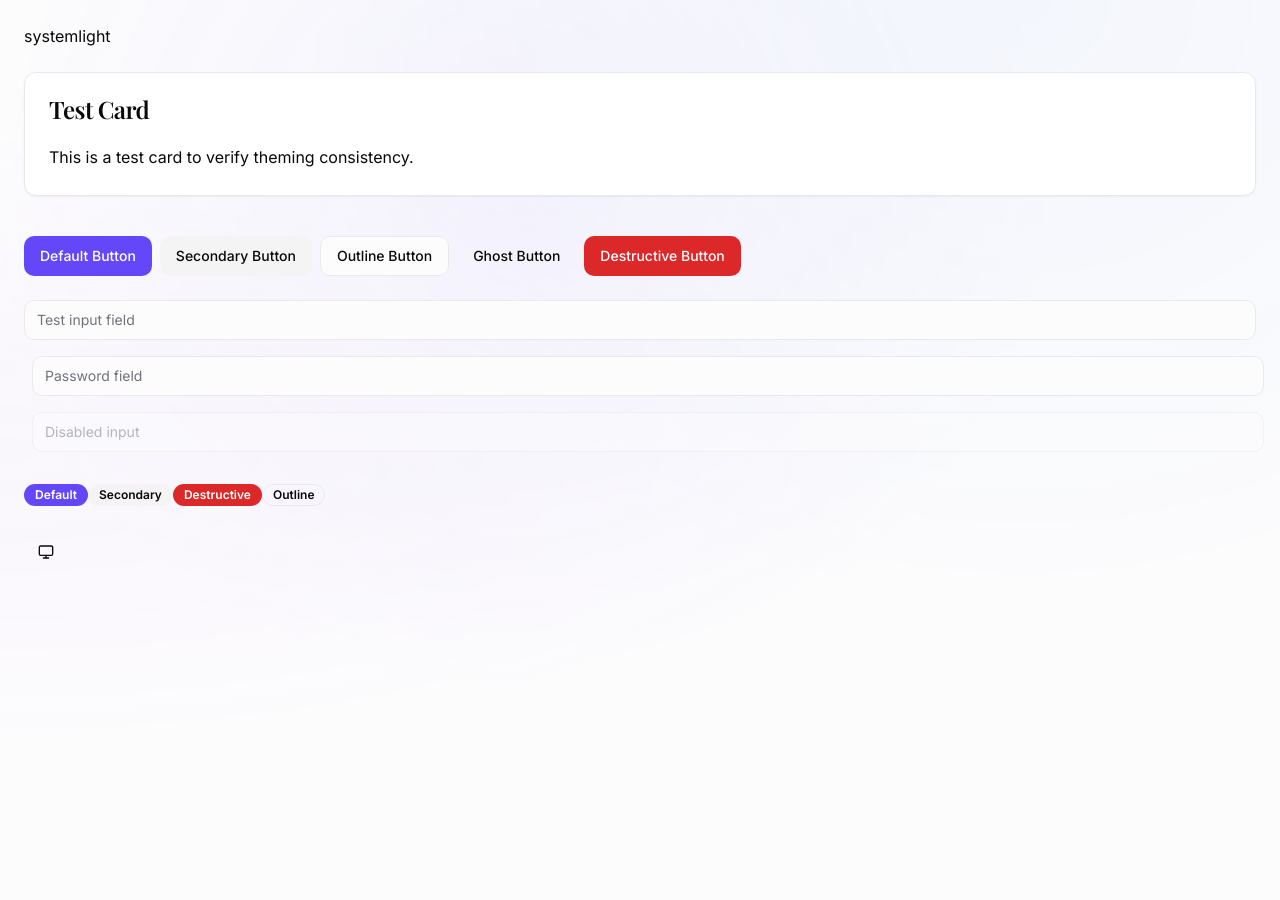
Theme Visual Regression Tests › Theme Application Consistency › applies high contrast theme classes consistently
Switch to high contrast theme
Click the button named "theme selector" at (46,552), box [24,530,68,574]
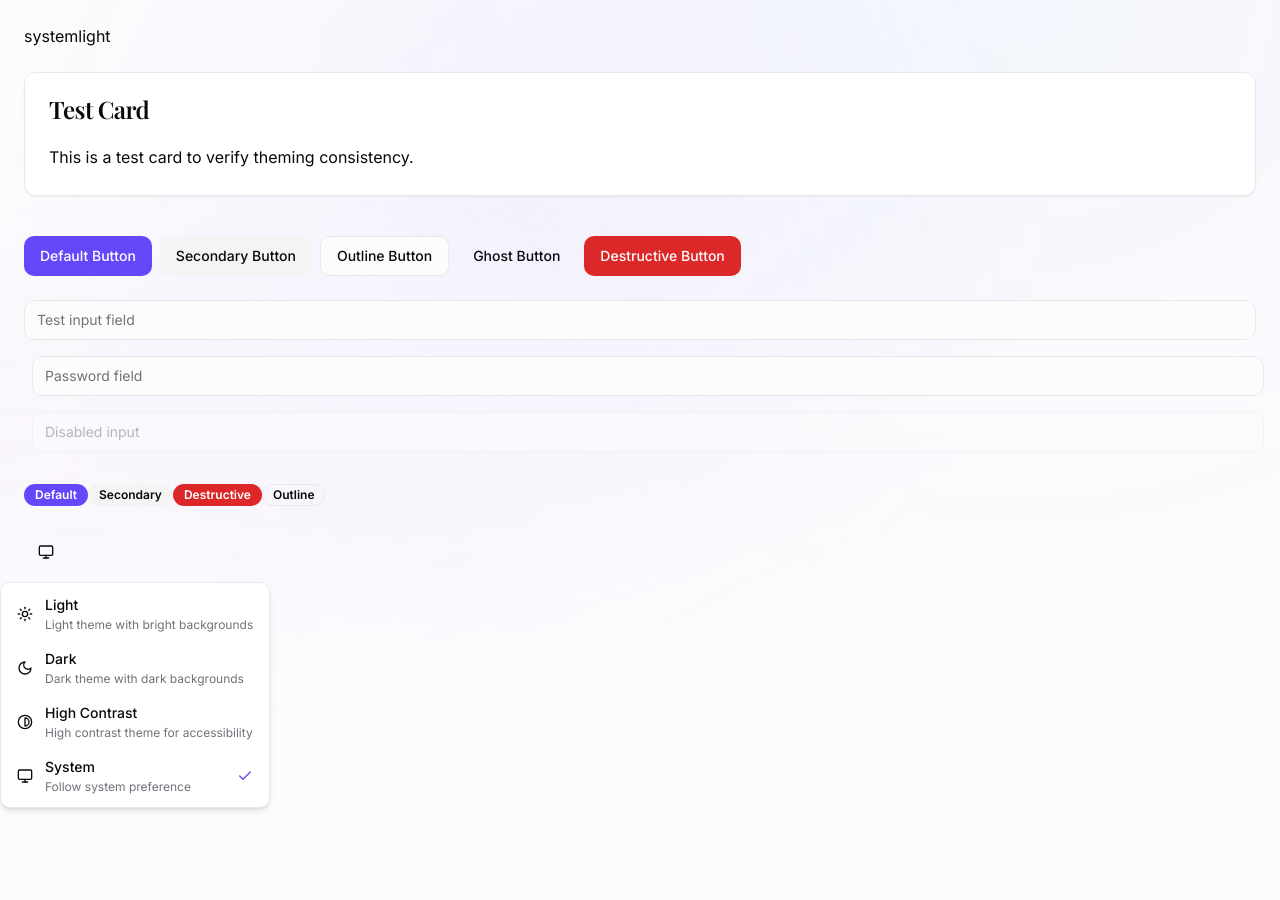
Click the menu item "High Contrast High contrast theme for accessibility" at (135,722), box [5,695,265,749]
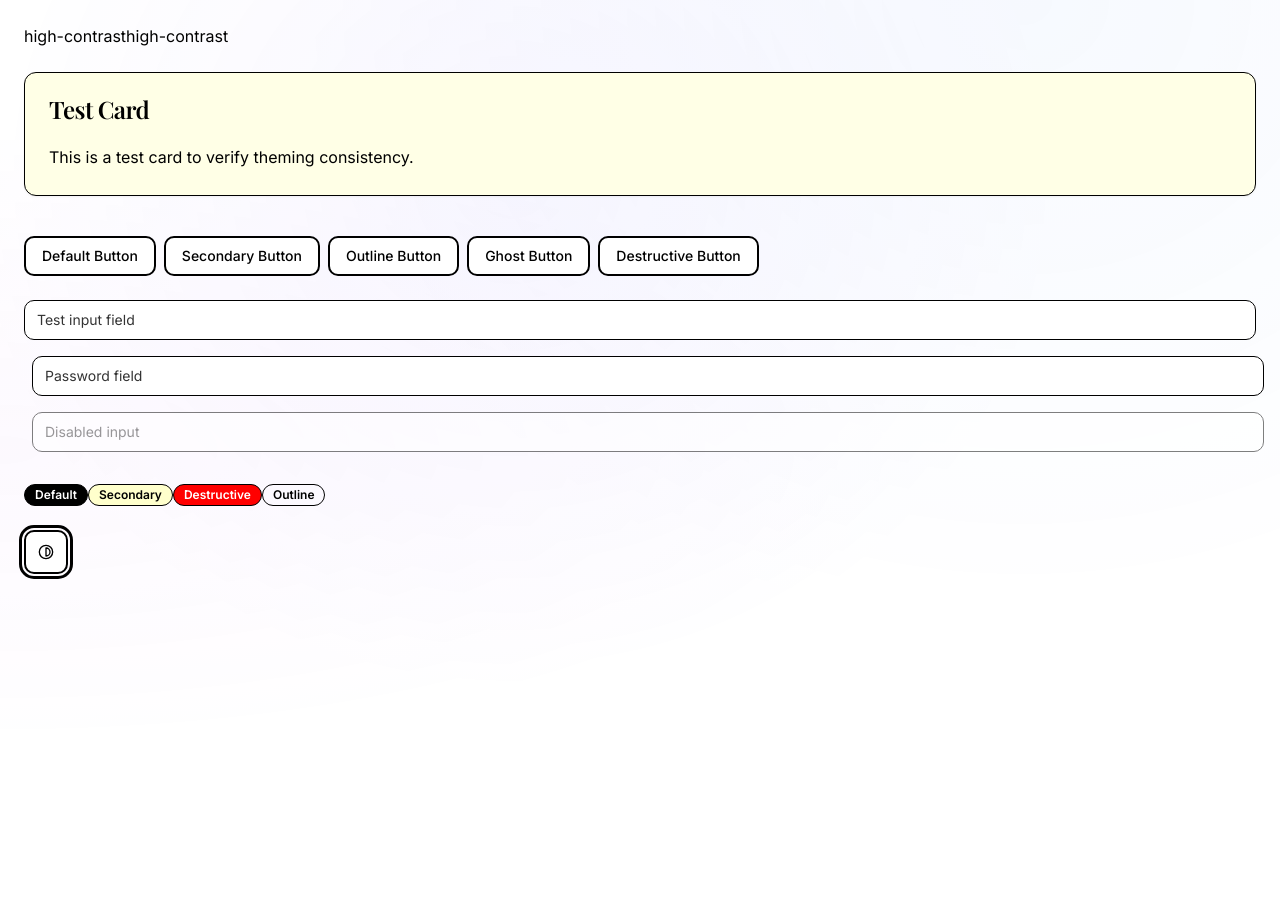
Expected: the text with test id "current-theme" reads "high-contrast", [24,26,126,46]
Expected: the text with test id "resolved-theme" reads "high-contrast", [126,26,228,46]
